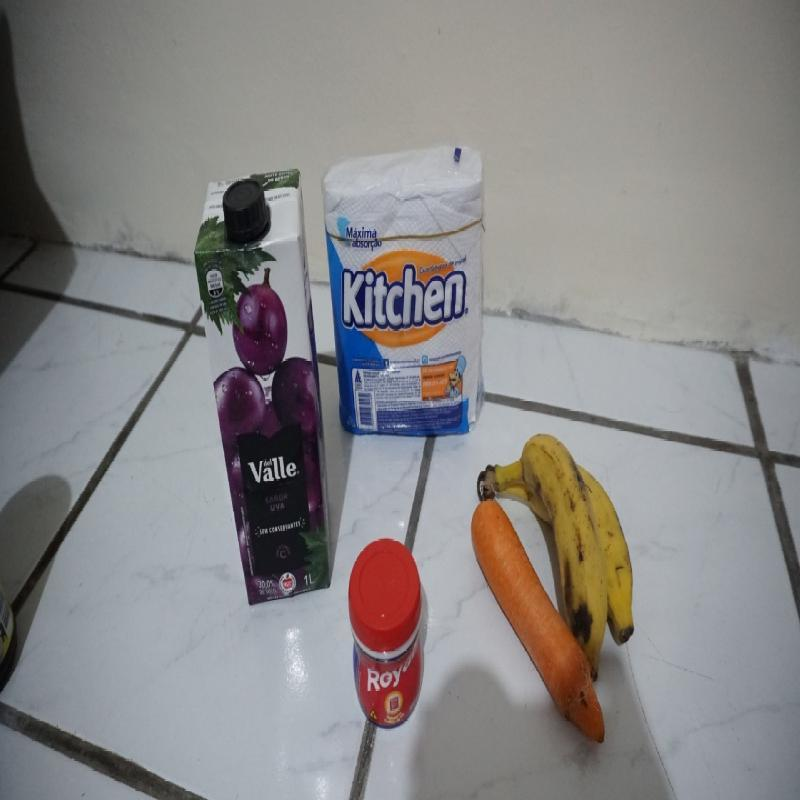Banana: (476, 431, 636, 686)
Carrot: (471, 497, 608, 746)
Chocolate Powder: (0, 578, 22, 697)
Napkin: (321, 140, 490, 439)
Yeast: (347, 535, 426, 733)
